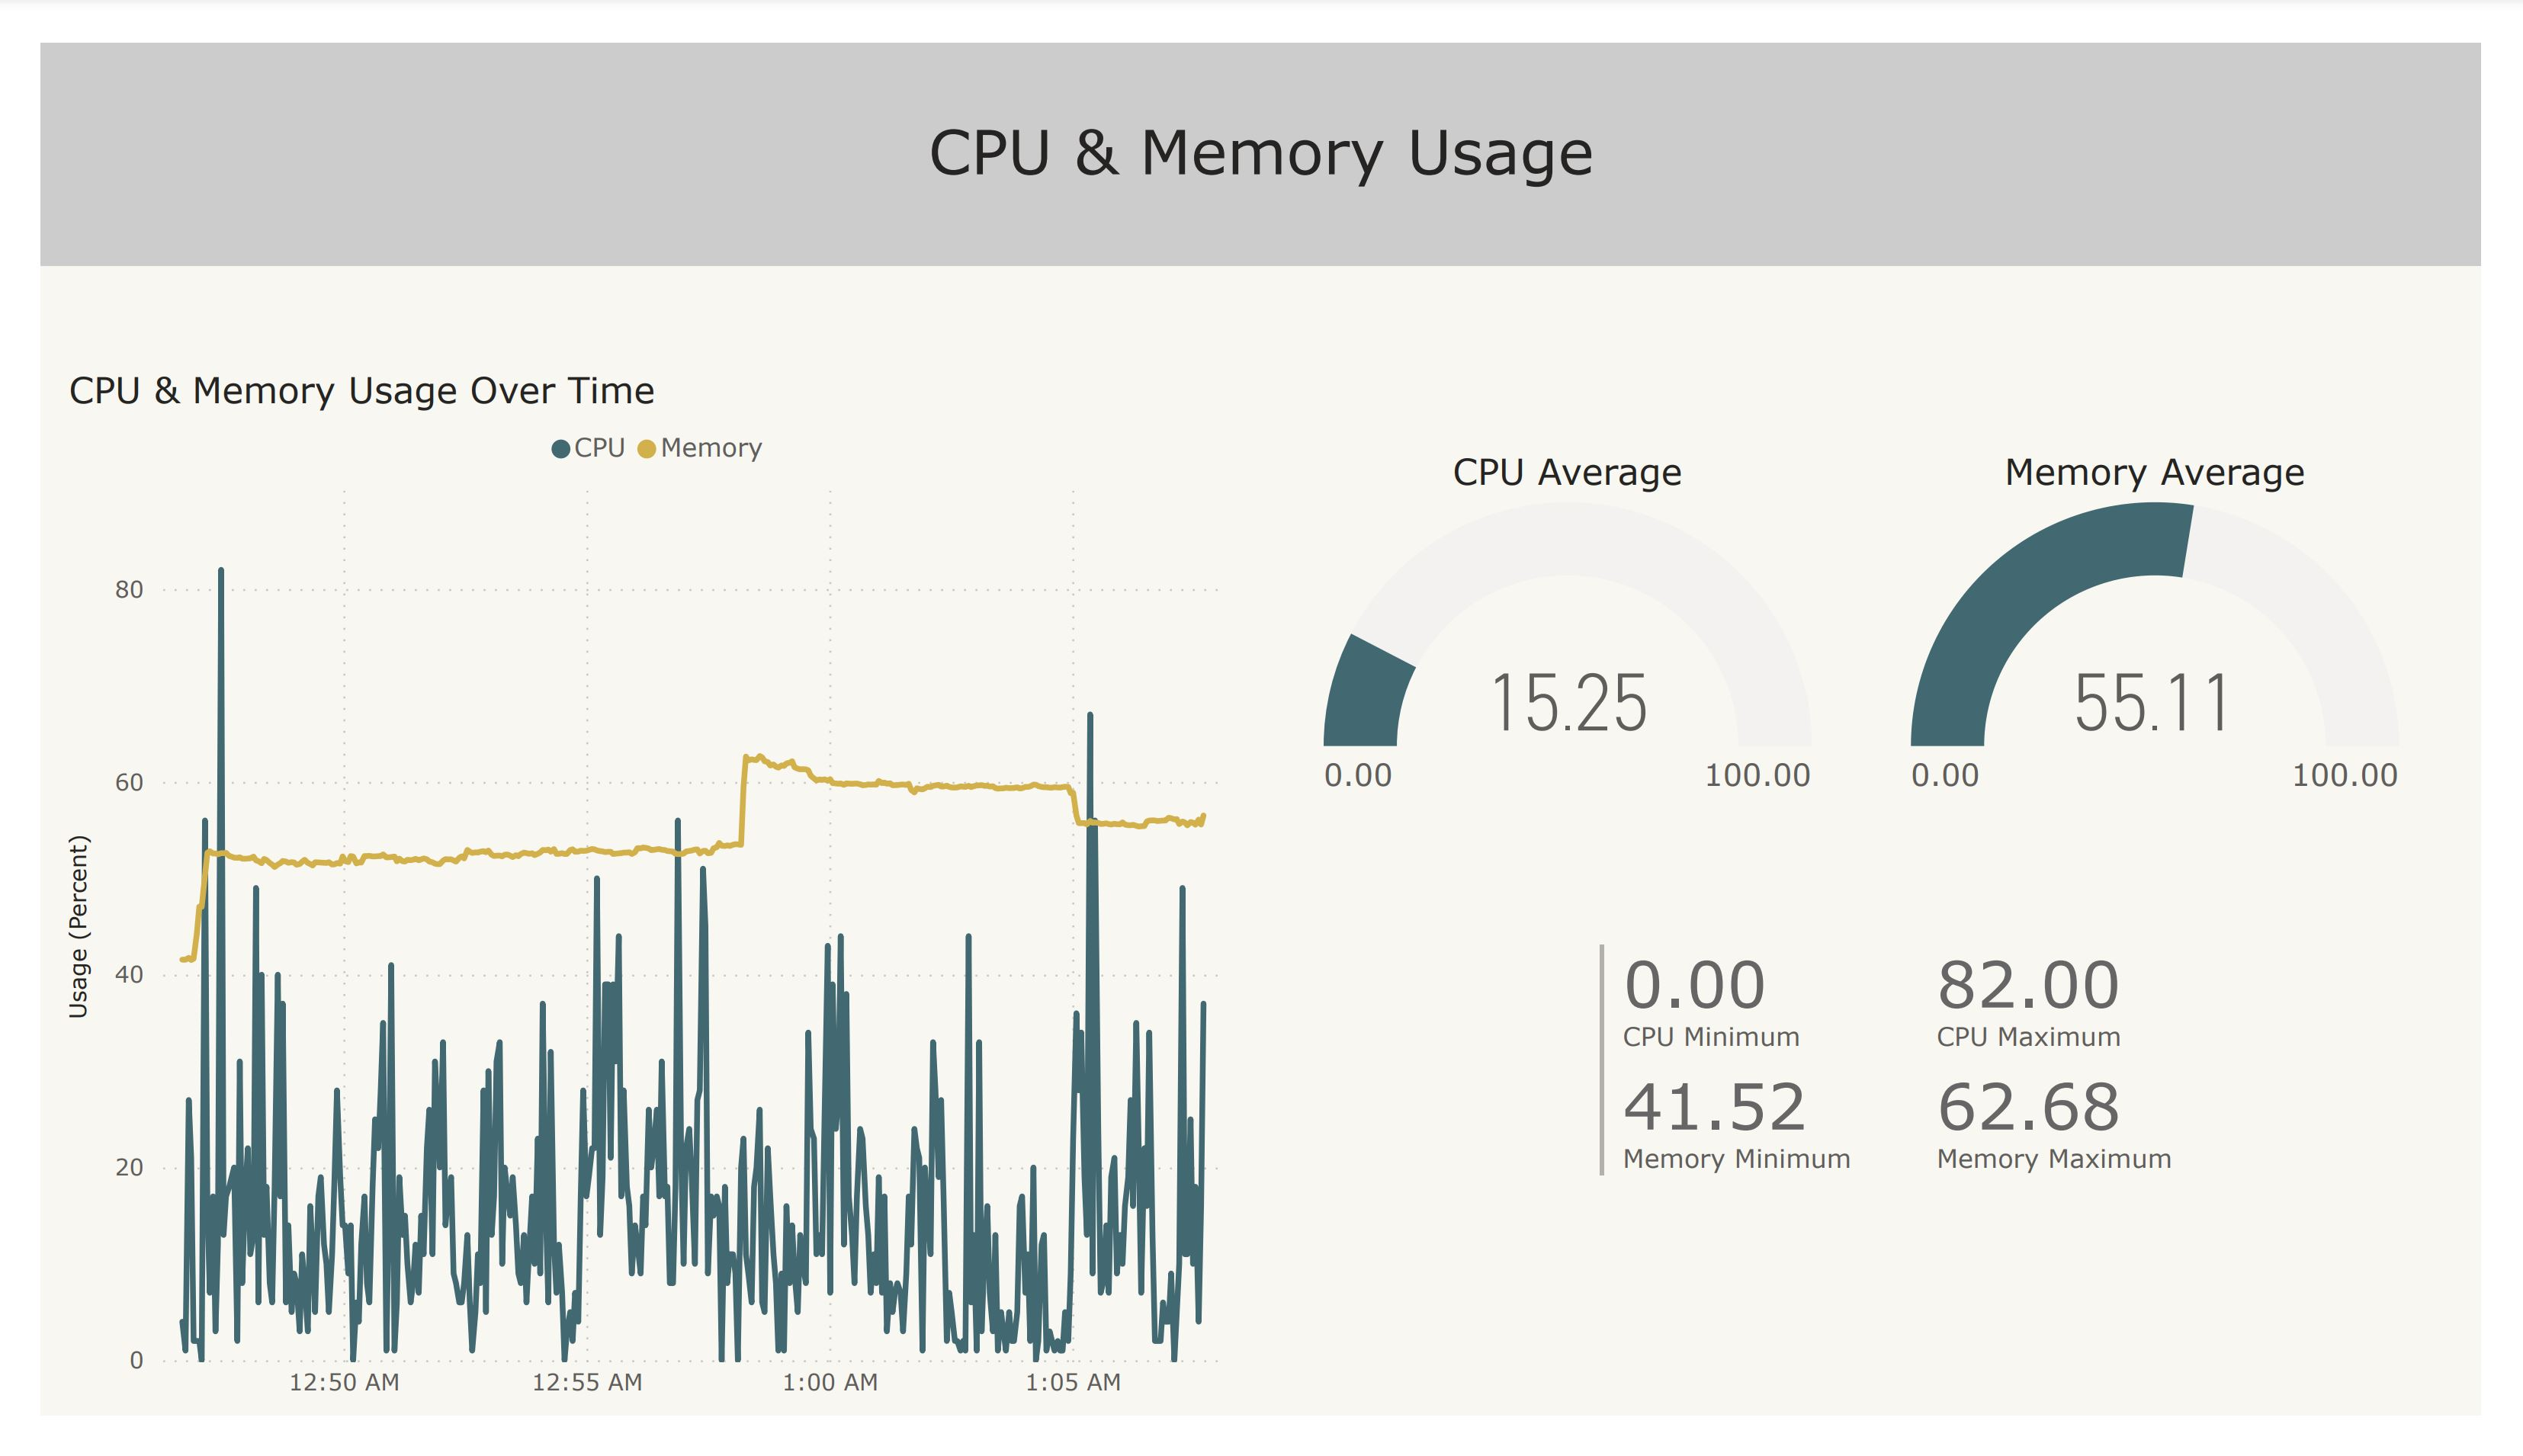

This screenshot's page, from the dashboard's own definition file:
{"tool":"powerbi","page":{"name":"Page 1","canvas":[1280,720],"ordinal":0},"visuals":[{"type":"lineChart","title":"CPU & Memory Usage Over Time","fields":{"Y":["Avg(RealTimeData.CPU_Usage)","Avg(RealTimeData.Mem_Usage)"],"Category":["RealTimeData.DateTime"]},"box":[9.6,170.2,631.2,550.3],"z":0},{"type":"gauge","fields":{"Y":["Avg(RealTimeData.CPU_Usage)"]},"box":[640.3,213,321.3,190.4],"z":1000},{"type":"gauge","fields":{"Y":["Avg(RealTimeData.Mem_Usage)"]},"box":[948.5,213,321.3,190.4],"z":2000},{"type":"textbox","box":[0,0,1280.5,116.6],"z":3000},{"type":"multiRowCard","fields":{"Values":["Min(RealTimeData.CPU_Usage)","Max(RealTimeData.CPU_Usage)","Min(RealTimeData.Mem_Usage)","Max(RealTimeData.Mem_Usage)"]},"box":[812.8,467.7,351.1,171.4],"z":4000}]}

Visuals, with their boxes in screenshot pixels (x1, y1, x2, y2), scaled from the page's 1280x720 canvas onto the 2523x1456 screenshot:
"CPU & Memory Usage Over Time" lineChart: bbox=(19, 345, 1263, 1455)
gauge - Avg(RealTimeData.CPU_Usage): bbox=(1262, 431, 1895, 816)
gauge - Avg(RealTimeData.Mem_Usage): bbox=(1870, 431, 2503, 816)
textbox: bbox=(0, 0, 2522, 236)
multiRowCard - Min(RealTimeData.CPU_Usage) x Max(RealTimeData.CPU_Usage): bbox=(1602, 946, 2294, 1292)
